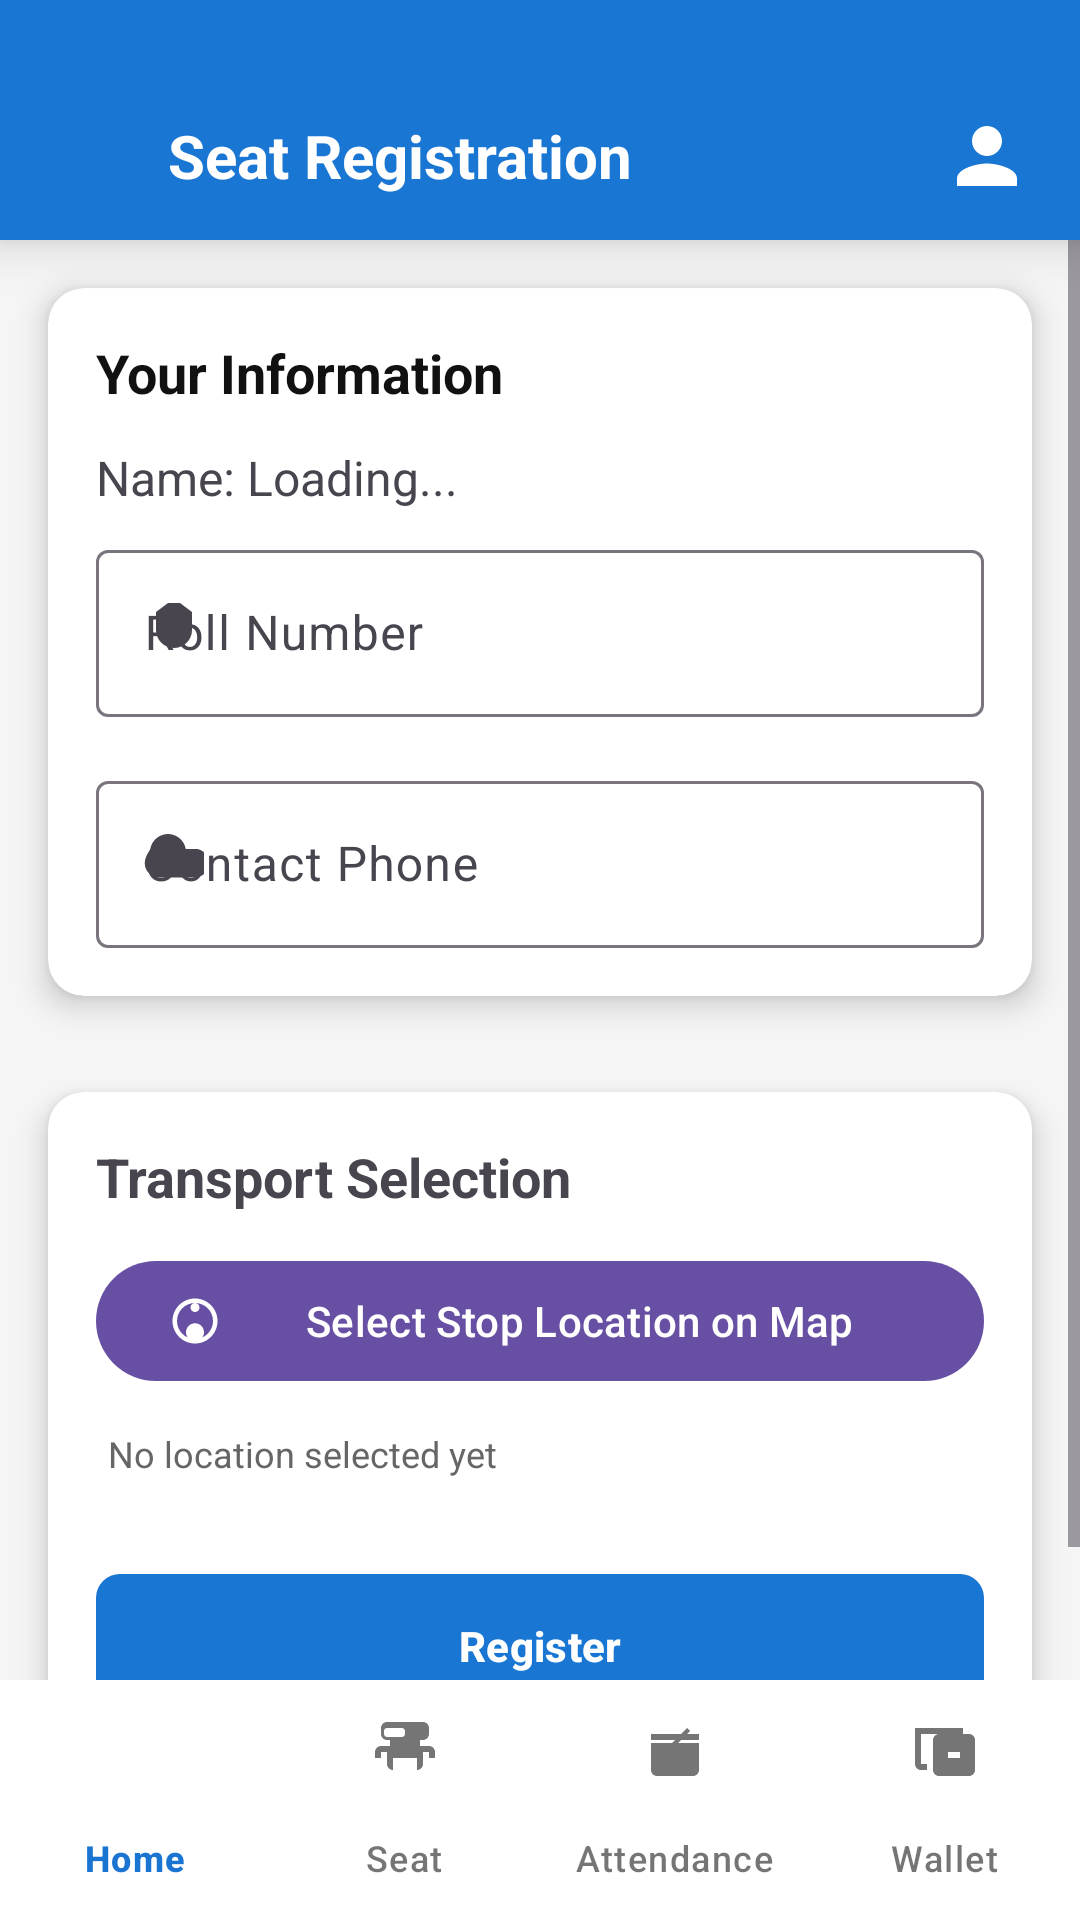

Icons on this 1080×1920 Android screen, each with its box as (x1, y1, x2, y2):
person: (957, 126, 1017, 186)
